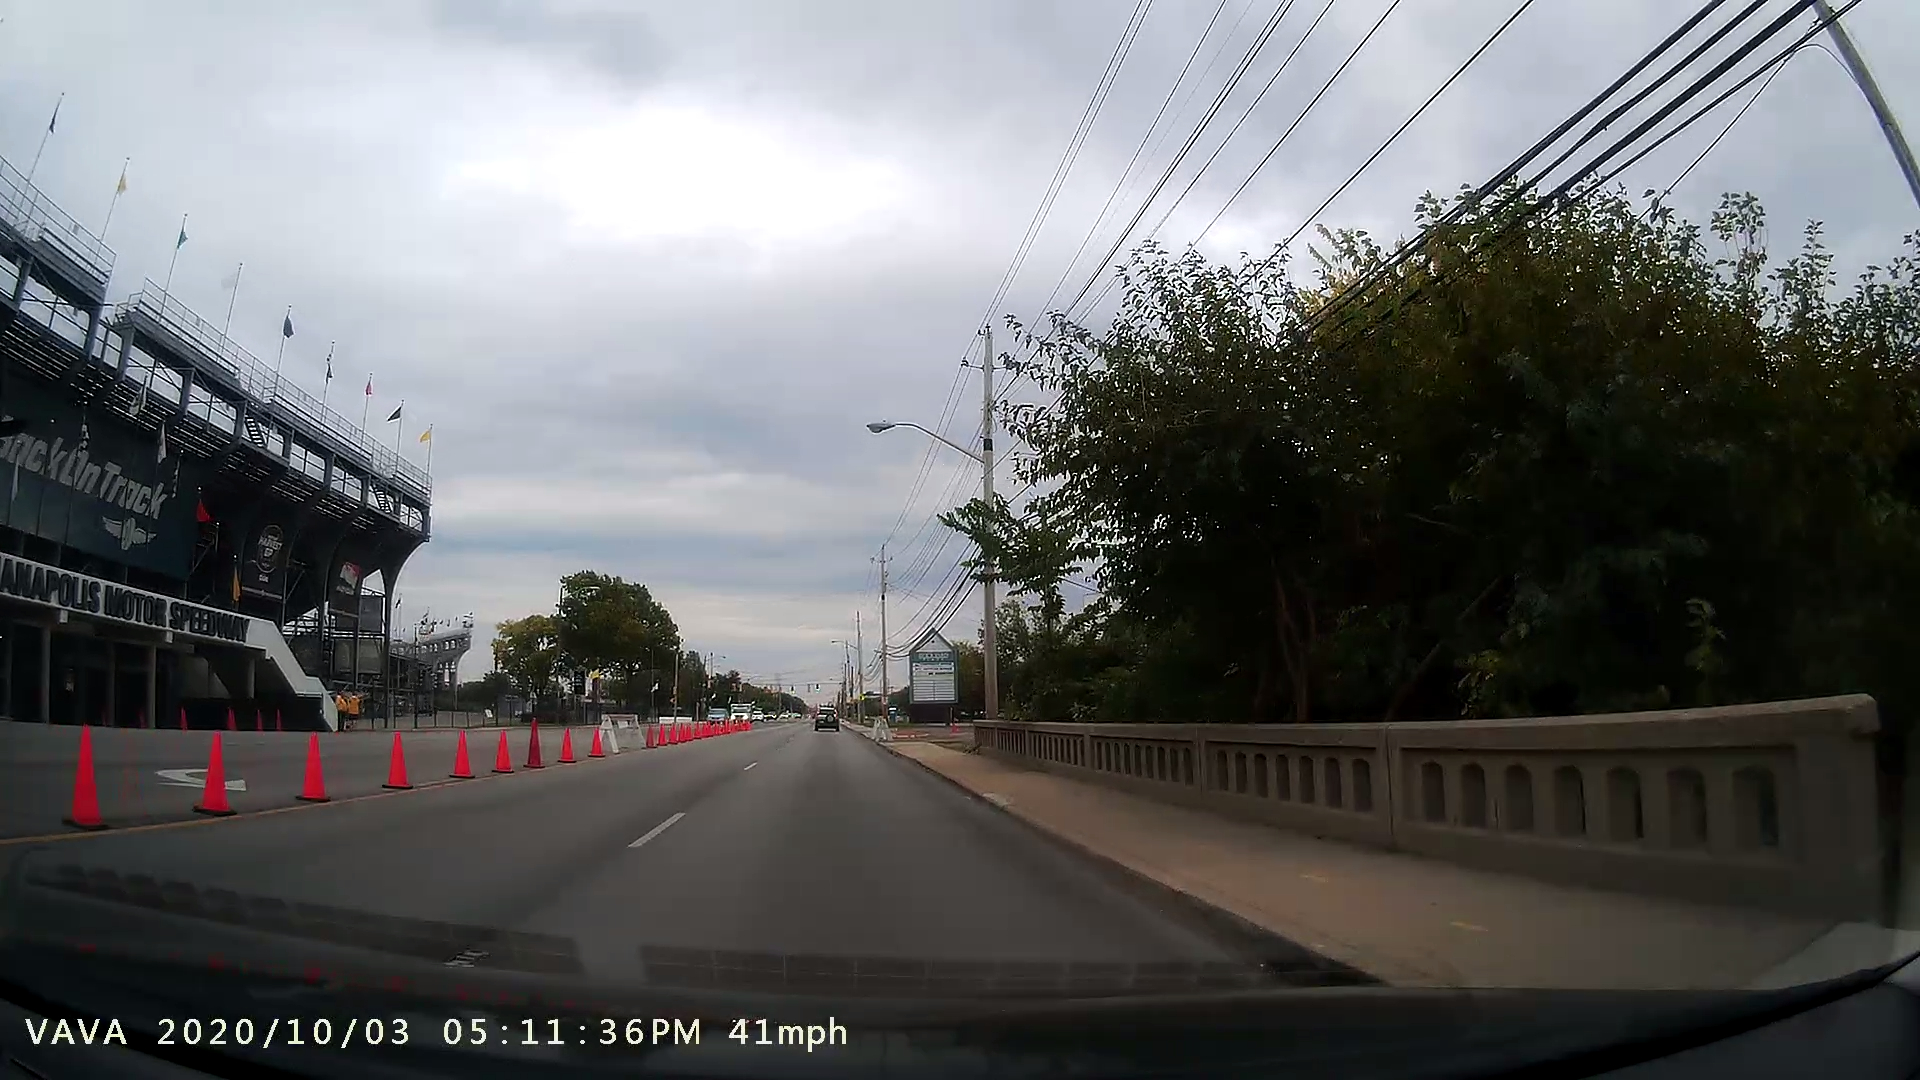const_cone: (51, 713, 136, 844), (183, 713, 247, 823), (287, 716, 342, 819), (375, 712, 431, 806), (443, 720, 481, 789), (489, 715, 522, 779), (521, 699, 549, 775)
